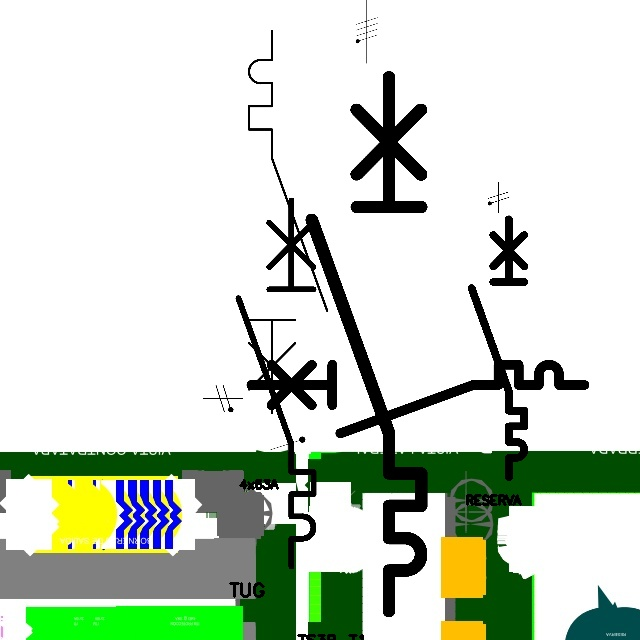interruptor_termomagnetico: (298, 63, 435, 624), (239, 21, 337, 422), (229, 191, 323, 576), (242, 356, 593, 442), (465, 212, 531, 483)
